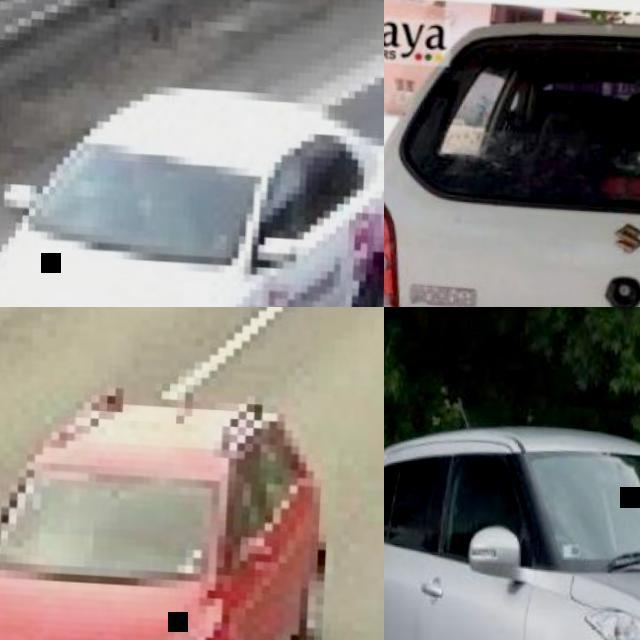car: (11, 89, 394, 310), (0, 402, 327, 638), (385, 424, 638, 639)
